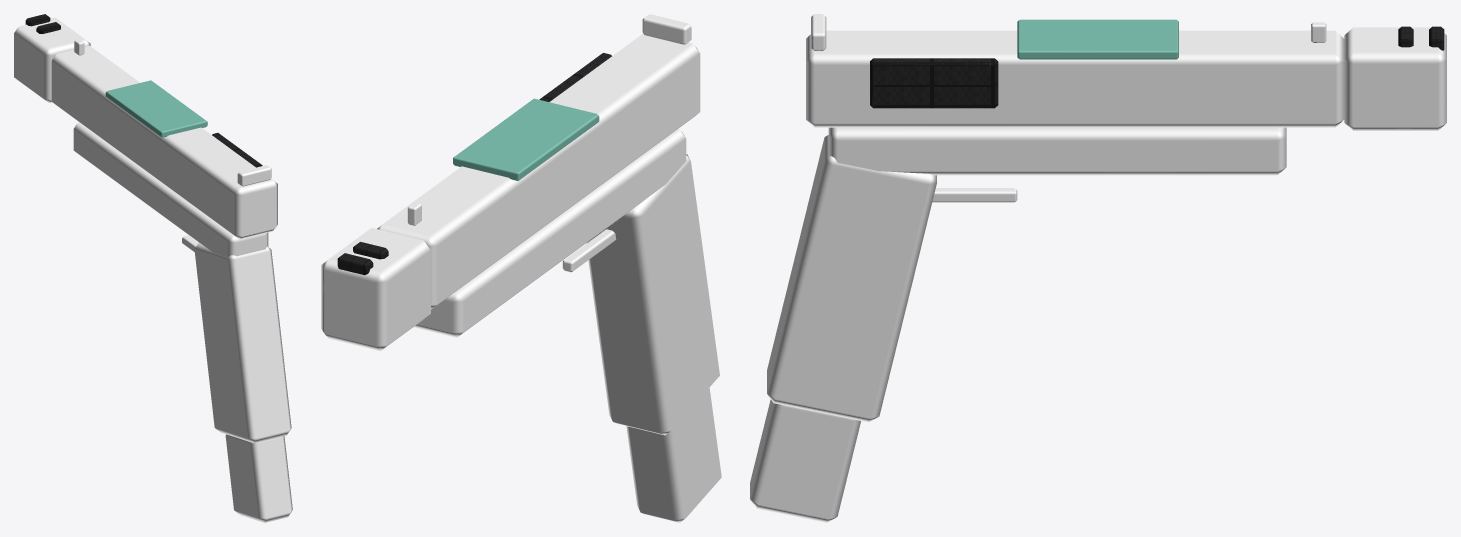
Rendered from rattler.glb.
3 views of the same model, side by side, from view 1: azimuth 30°, elevation 25°; view 2: azimuth 150°, elevation 25°; view 3: azimuth 270°, elevation 25° (orthographic). The views are drawn at different scales.
Bounding box in the file's own units: 0.0325 × 0.2115 × 0.2718.
4 materials, 1 textured.
